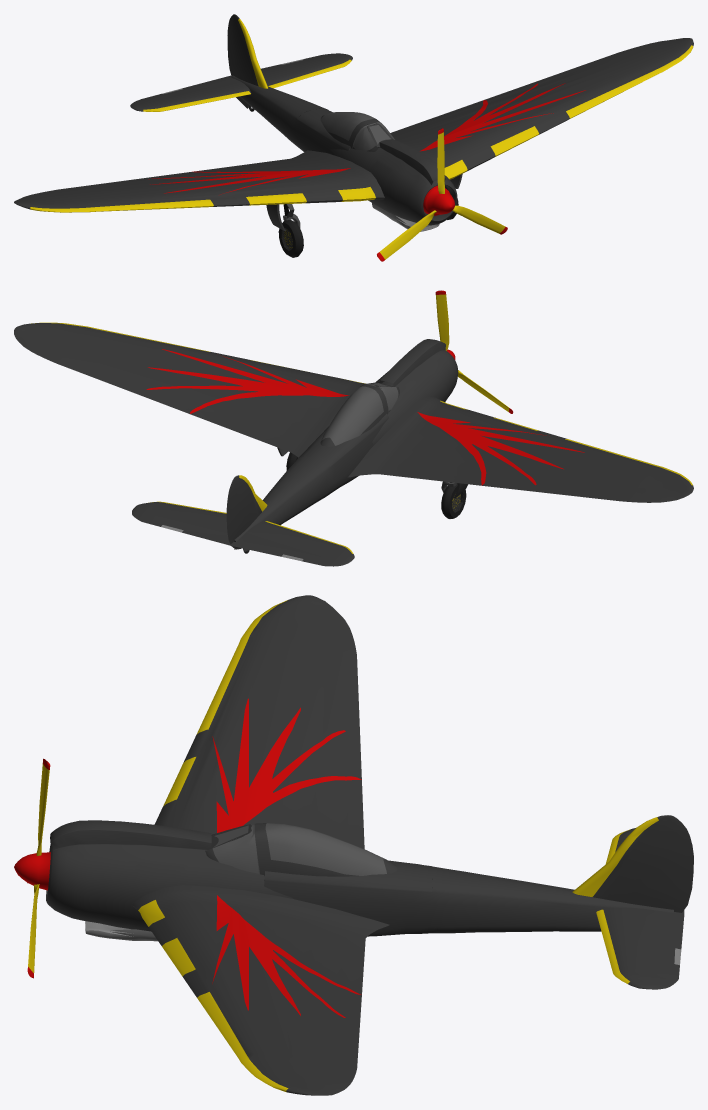
The model's file is Thunder_R.dae.
The picture shows the model from 3 angles, top to bottom: view 1: azimuth 30°, elevation 25°; view 2: azimuth 150°, elevation 25°; view 3: azimuth 270°, elevation 25°; orthographic projection. The views are drawn at different scales.
Visible parts, largest first — view 1: ID407, ID154, group_3, ID532, ID419, ID413, ID557, ID371, ID377, ID344, ID170, ID192 (+9 smaller); view 2: ID407, ID532, group_3, ID154, ID419, ID413, ID344, ID557, ID186, ID133, ID338; view 3: ID407, group_3, ID154, ID557, ID532, ID413, ID344, ID419, ID338, ID377, ID358, ID551 (+3 smaller).
Boxes of the visible parts, x1,y1,x2,y2 form: ID407: (14, 38, 693, 209); ID154: (330, 132, 457, 225); group_3: (231, 75, 363, 153); ID532: (130, 53, 352, 111); ID419: (420, 83, 585, 151); ID413: (148, 168, 350, 194); ID557: (227, 14, 258, 86); ID371: (30, 199, 213, 212); ID377: (566, 45, 693, 118); ID344: (320, 112, 378, 140); ID170: (423, 185, 454, 215); ID192: (379, 210, 436, 259); ID407: (14, 323, 693, 502); ID532: (132, 502, 354, 566); group_3: (231, 414, 388, 547); ID154: (372, 339, 458, 445); ID419: (146, 349, 349, 413); ID413: (417, 412, 584, 485); ID344: (321, 386, 383, 445); ID557: (226, 475, 261, 549); ID186: (436, 294, 449, 350); ID133: (441, 483, 466, 518); ID338: (320, 384, 388, 446); ID407: (132, 595, 389, 1095); group_3: (264, 860, 673, 936); ID154: (46, 820, 292, 931); ID557: (592, 815, 693, 912); ID532: (603, 828, 684, 989); ID413: (212, 698, 361, 832); ID344: (265, 823, 386, 875); ID419: (212, 895, 361, 1017); ID338: (254, 823, 397, 876); ID377: (197, 992, 288, 1092); ID358: (212, 824, 258, 873); ID551: (572, 817, 658, 896).
Size of the model in its own units: 0.67 by 0.149 by 0.3854.
